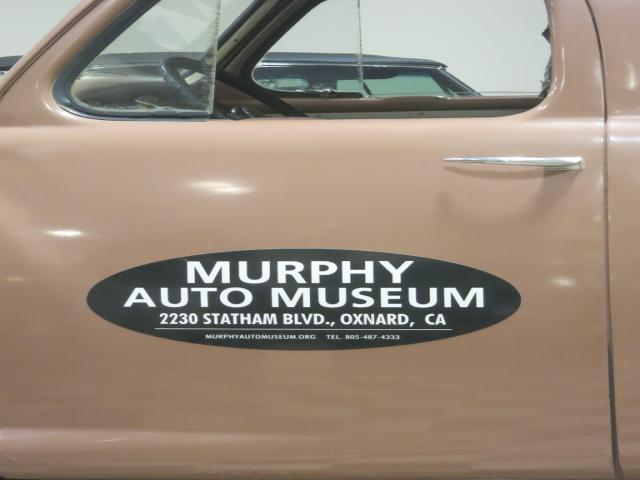Door-handle: (439, 152, 584, 174)
